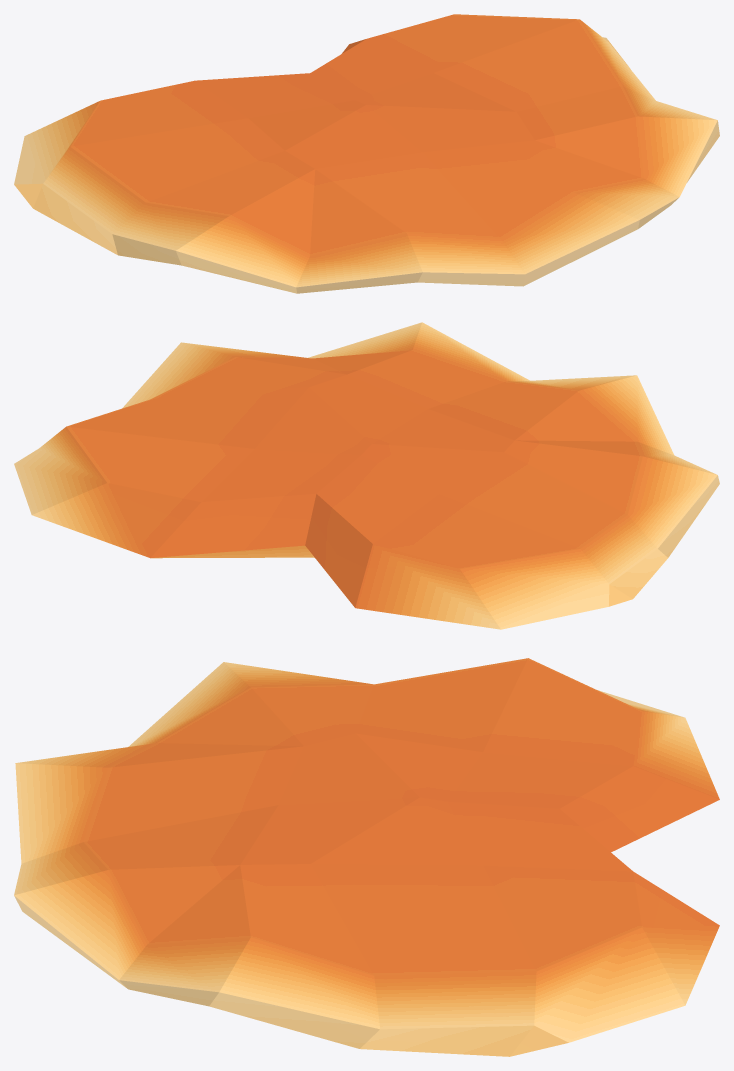
Rendered from ChickenWoods_LargeFull.glb.
The picture shows the model from 3 angles, top to bottom: view 1: azimuth 30°, elevation 25°; view 2: azimuth 150°, elevation 25°; view 3: azimuth 270°, elevation 25°; orthographic projection. The views are drawn at different scales.
Parts seen in each view (by area): view 1: largefull; view 2: largefull; view 3: largefull.
Part boxes in pixels (box(x1,y1,x2,y2)): largefull: box(14, 14, 719, 293); largefull: box(14, 322, 719, 629); largefull: box(14, 658, 719, 1056).
Bounding box in the file's own units: 4.17 × 0.5621 × 3.41.
1 material, 1 textured.
